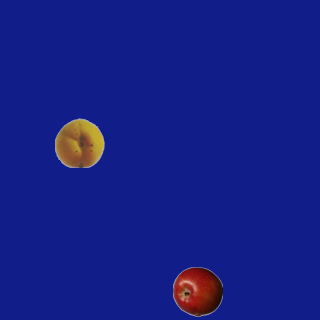Apple Braeburn: (172, 266, 222, 316)
Peach 2: (54, 117, 104, 167)
